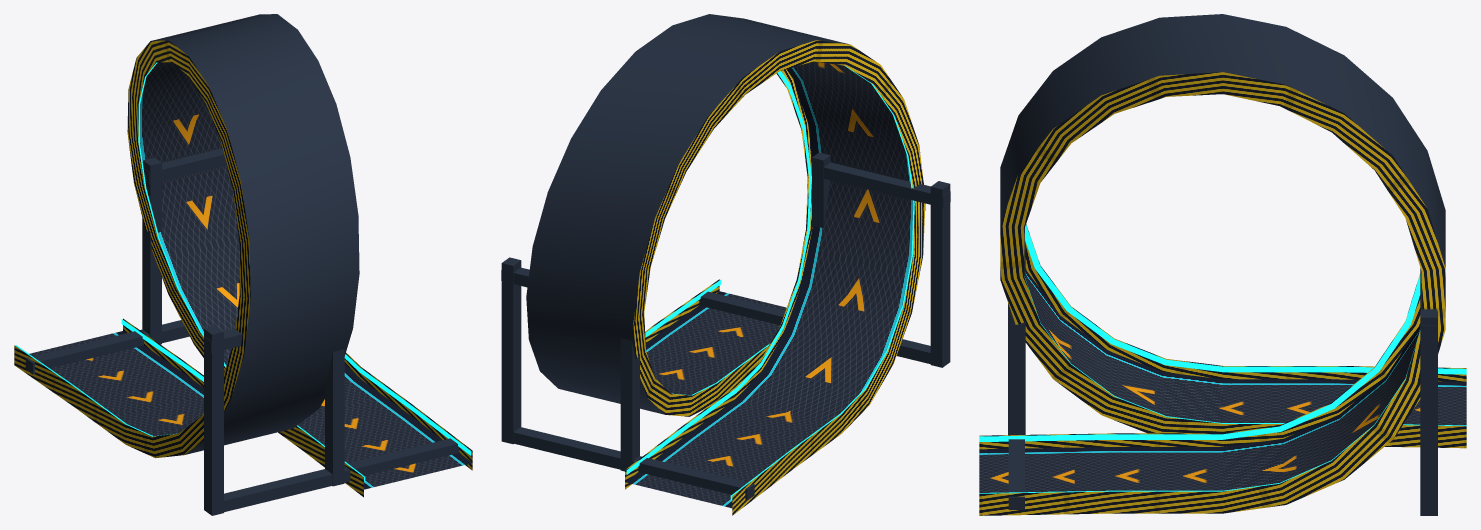
The model's file is loop_the_loop.glb.
3 renders of one model, left to right at view 1: azimuth 30°, elevation 25°; view 2: azimuth 150°, elevation 25°; view 3: azimuth 270°, elevation 25°, orthographic. The views are drawn at different scales.
Parts seen in each view (by area): view 1: loop_the_loop; view 2: loop_the_loop; view 3: loop_the_loop.
Part boxes in pixels (x1=…): loop_the_loop: x1=14, y1=14, x2=472, y2=515; loop_the_loop: x1=501, y1=14, x2=950, y2=515; loop_the_loop: x1=979, y1=14, x2=1466, y2=515.
Size of the model in its own units: 5.26 by 7.24 by 7.8.
Materials: 4 (2 with a texture image).
